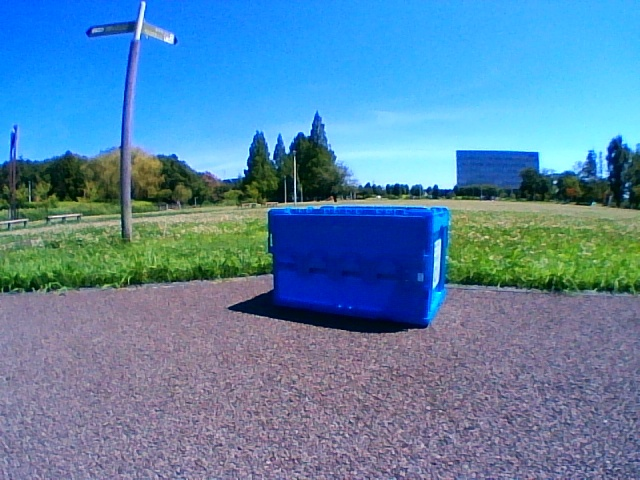blue_box: (267, 206, 447, 324)
tag: (434, 240, 439, 286)
